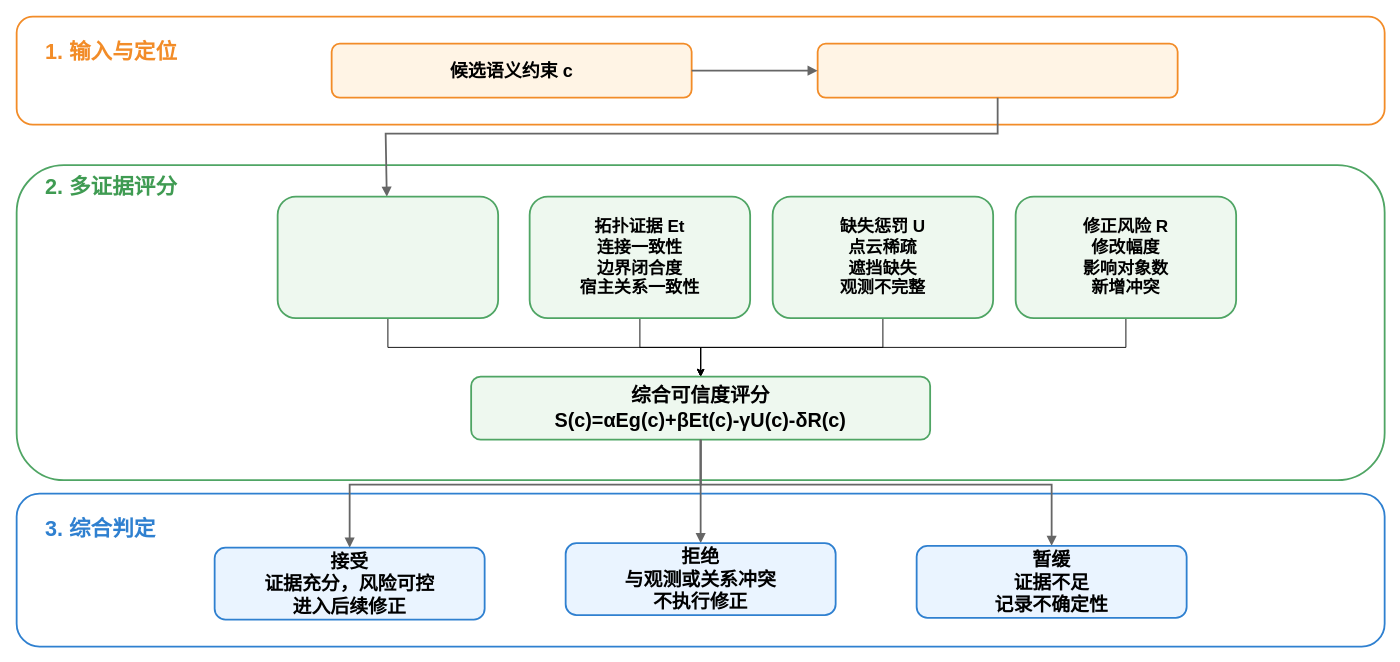
This 1400x662 diagram has some shape labels left out. Each missing label, with the centre of its shape:
几何证据 Eg 点云支撑 残差 / 距离 / 角度 投影重叠率: the point at 387,257
确定作用对象与局部点云区域: the point at 997,70
